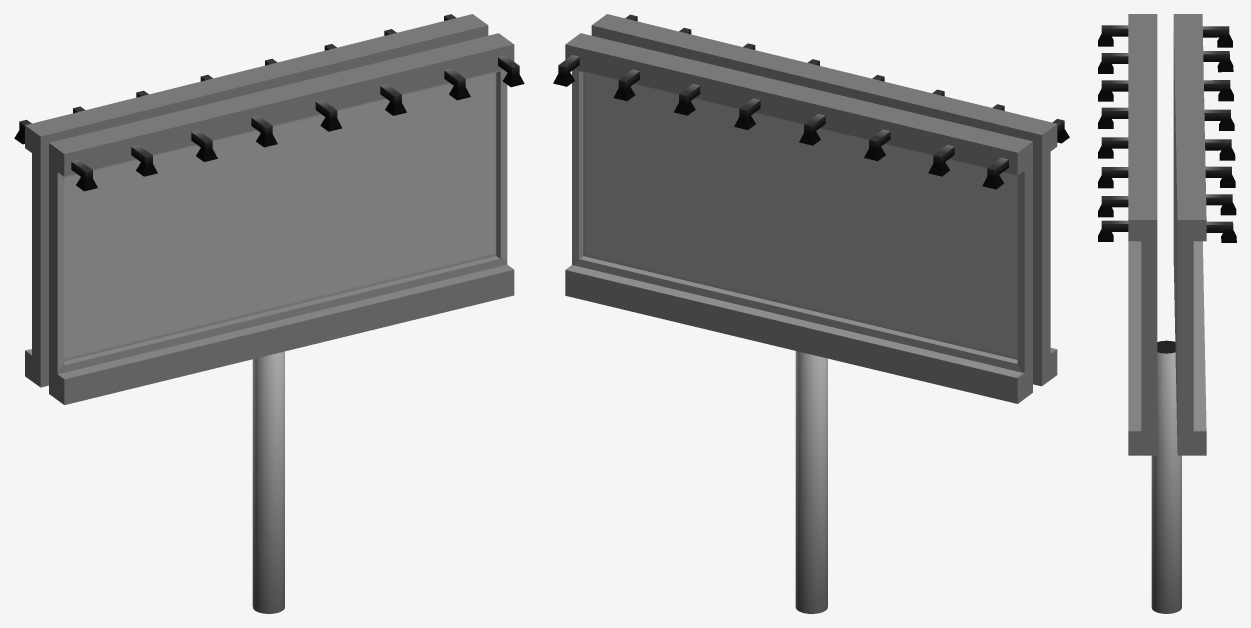
Rendered from billboard (1).fbx.
The picture shows the model from 3 angles, left to right: view 1: azimuth 30°, elevation 25°; view 2: azimuth 150°, elevation 25°; view 3: azimuth 270°, elevation 25°; orthographic projection. The views are drawn at different scales.
Parts seen in each view (by area): view 1: pCylinder2; view 2: pCylinder2; view 3: pCylinder2.
Part boxes in pixels (x1,y1,x2,y2): pCylinder2: [14, 14, 524, 613]; pCylinder2: [553, 14, 1069, 613]; pCylinder2: [1098, 14, 1236, 613].
Bounding box in the file's own units: 15.01 × 16.66 × 4.27.
Materials: 1 (1 with a texture image).
